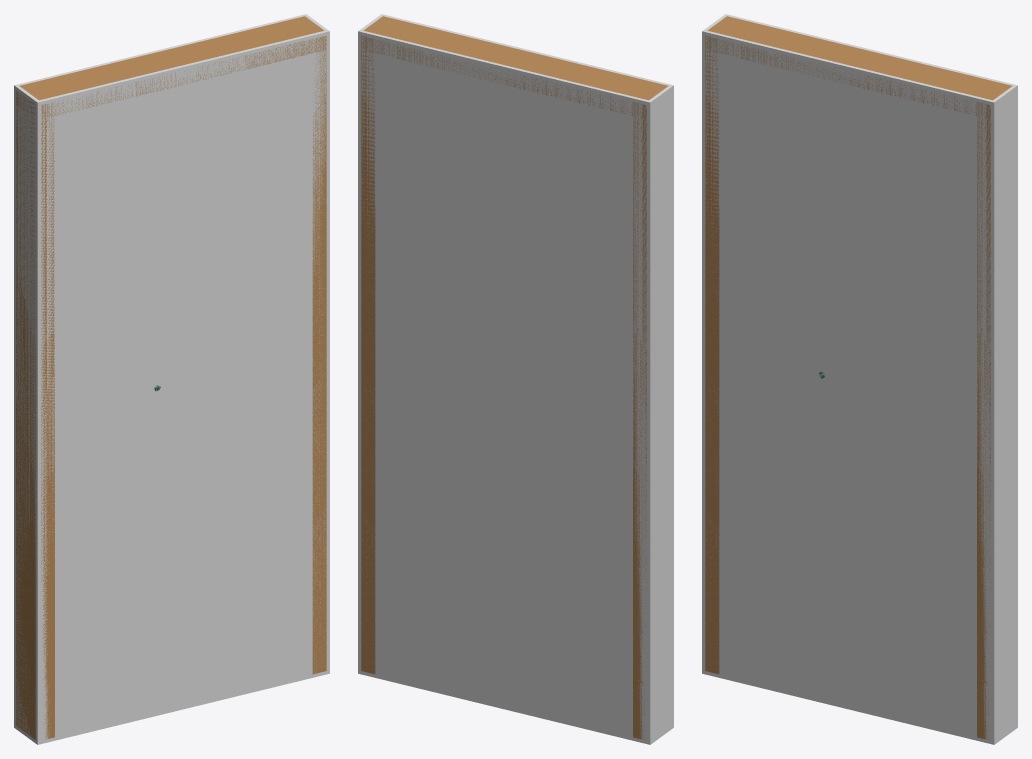
Rendered from interior-door_retail.glb.
3 views of the same model, side by side, from view 1: azimuth 30°, elevation 25°; view 2: azimuth 150°, elevation 25°; view 3: azimuth 330°, elevation 25° (orthographic).
Visible parts, largest first — view 1: COL_interior-door, MESH_FrameSide, MESH_FrameSide.001, MESH_FrameTop; view 2: COL_interior-door, MESH_FrameSide.001, MESH_FrameTop, MESH_FrameSide; view 3: COL_interior-door, MESH_FrameSide, MESH_FrameTop, MESH_FrameSide.001.
Boxes of the visible parts, x1,y1,x2,y2 form: COL_interior-door: [14, 14, 329, 744]; MESH_FrameSide: [16, 90, 54, 739]; MESH_FrameSide.001: [312, 36, 326, 674]; MESH_FrameTop: [16, 16, 326, 116]; COL_interior-door: [358, 14, 673, 744]; MESH_FrameSide.001: [361, 36, 375, 674]; MESH_FrameTop: [362, 16, 668, 118]; MESH_FrameSide: [633, 102, 654, 739]; COL_interior-door: [702, 14, 1017, 744]; MESH_FrameSide: [705, 36, 719, 674]; MESH_FrameTop: [706, 16, 1012, 118]; MESH_FrameSide.001: [977, 102, 998, 739].
Bounding box in the file's own units: 1 × 2.1 × 0.14.
